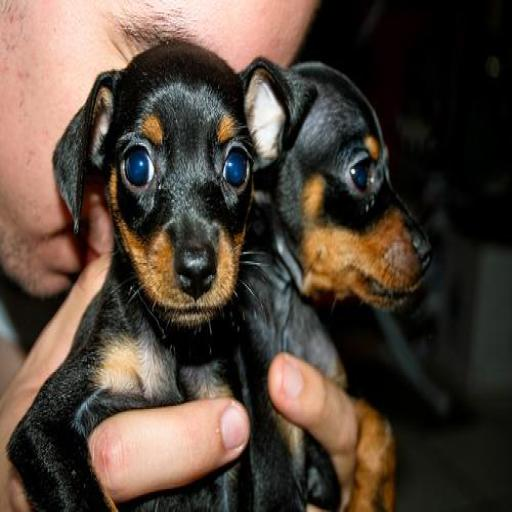dog_face: (64, 38, 286, 338), (245, 53, 436, 325)
